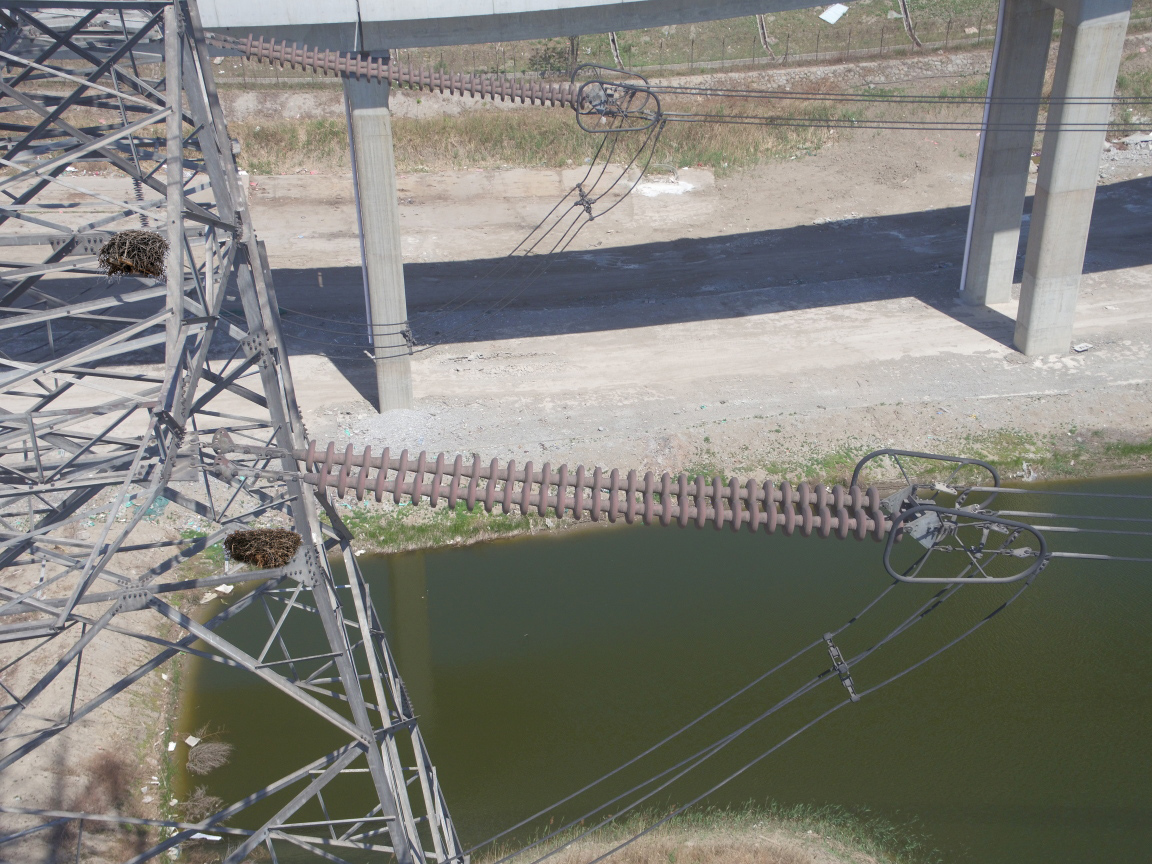nest: (91, 232, 177, 280), (218, 525, 303, 569)
